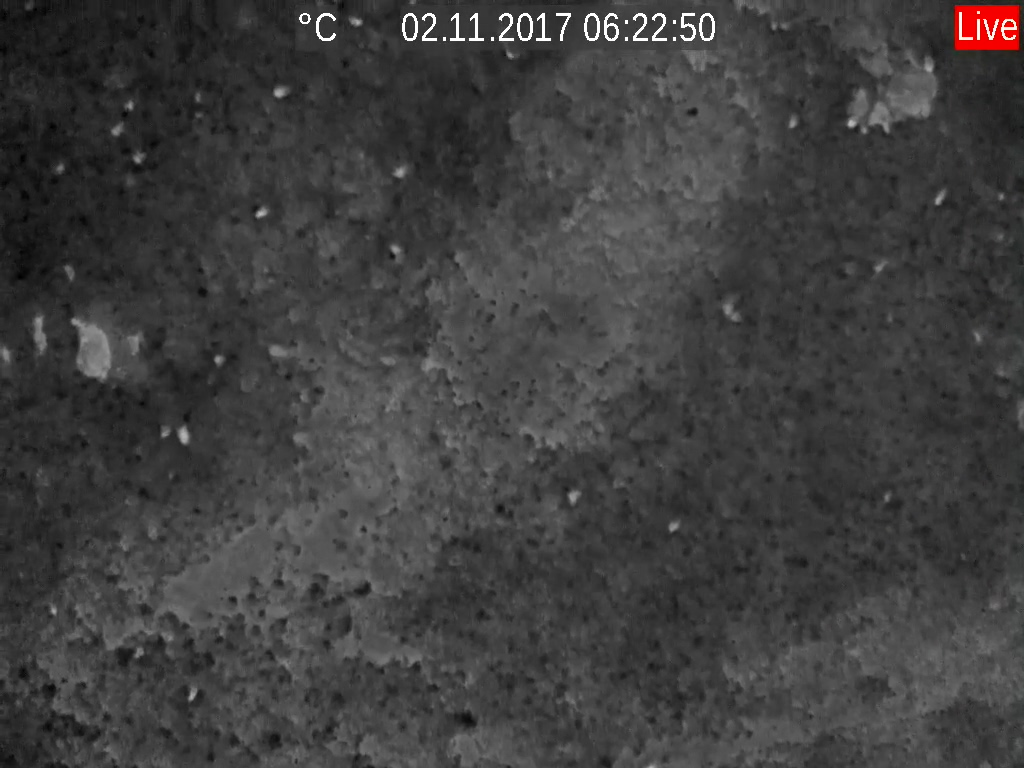warren: (172, 421, 198, 449), (663, 515, 687, 538), (867, 257, 895, 276), (930, 185, 954, 207), (181, 684, 204, 704), (249, 202, 272, 222), (968, 328, 990, 347), (107, 119, 129, 138), (130, 148, 149, 167), (786, 112, 804, 132)
